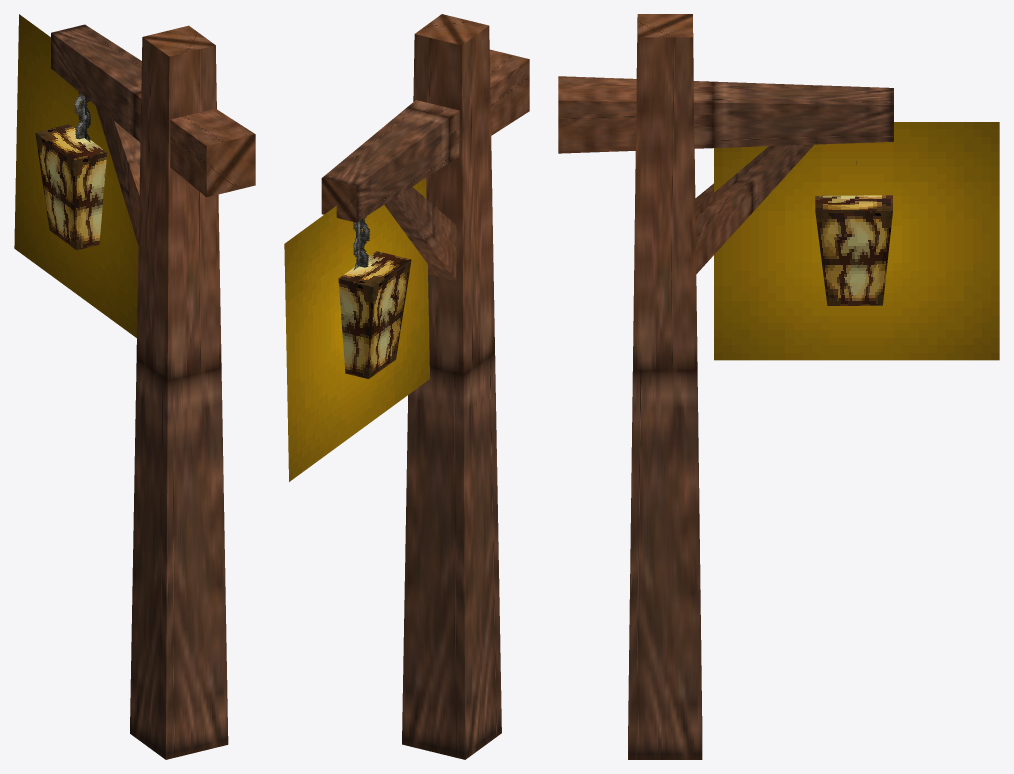
Rendered from LampPost.obj.
3 views of the same model, side by side, from view 1: azimuth 30°, elevation 25°; view 2: azimuth 150°, elevation 25°; view 3: azimuth 270°, elevation 25° (orthographic). The views are drawn at different scales.
Visible parts, largest first — view 1: Body_Body_Mesh, Body.003_Body_Mesh.003, Body.001_Body_Mesh.001, Body.002_Body_Mesh.002; view 2: Body_Body_Mesh, Body.003_Body_Mesh.003, Body.001_Body_Mesh.001, Body.002_Body_Mesh.002; view 3: Body_Body_Mesh, Body.003_Body_Mesh.003, Body.001_Body_Mesh.001.
Part boxes in pixels (box(x1,y1,x2,y2)): Body_Body_Mesh: box(51, 24, 255, 759); Body.003_Body_Mesh.003: box(14, 14, 140, 337); Body.001_Body_Mesh.001: box(35, 124, 107, 250); Body.002_Body_Mesh.002: box(74, 92, 90, 142); Body_Body_Mesh: box(321, 14, 529, 759); Body.003_Body_Mesh.003: box(284, 178, 429, 481); Body.001_Body_Mesh.001: box(338, 251, 411, 378); Body.002_Body_Mesh.002: box(353, 214, 369, 270); Body_Body_Mesh: box(558, 14, 893, 759); Body.003_Body_Mesh.003: box(714, 122, 999, 360); Body.001_Body_Mesh.001: box(815, 195, 892, 305).
Size of the model in its own units: 0.402 by 4.1 by 2.28.
4 materials, 4 textured.
